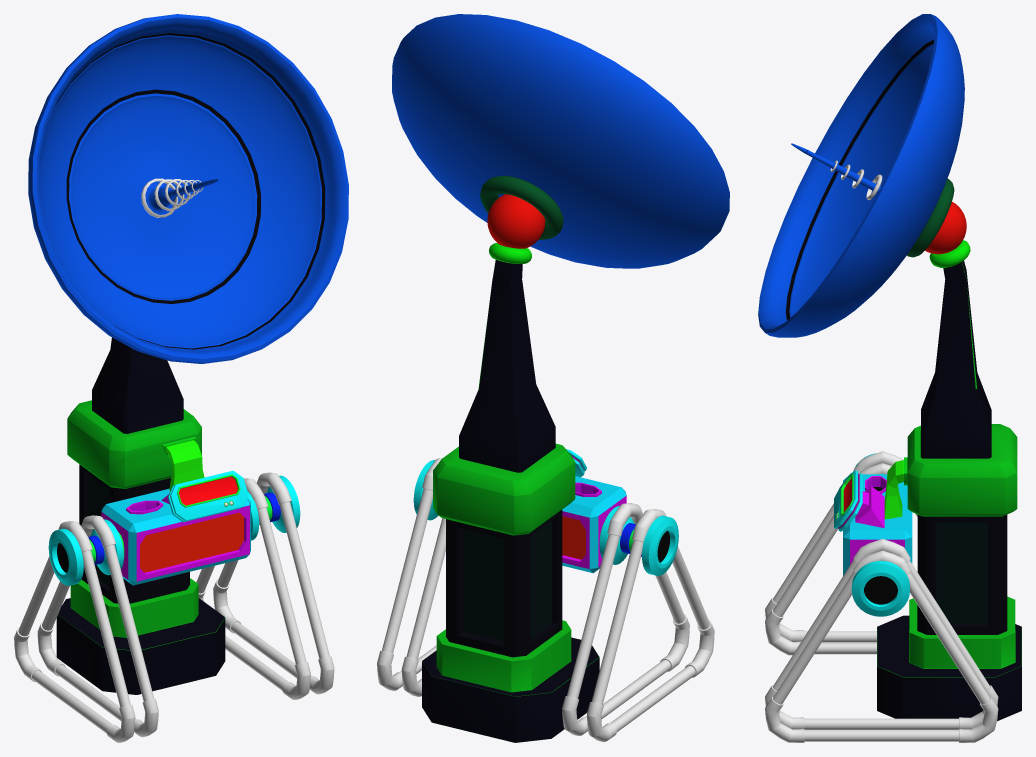
The model's file is radar3.fbx.
3 renders of one model, left to right at view 1: azimuth 30°, elevation 25°; view 2: azimuth 150°, elevation 25°; view 3: azimuth 270°, elevation 25°, orthographic. The views are drawn at different scales.
Visible parts, largest first — view 1: Sphere.004, Cube.001, Cube, Cylinder.003, Cylinder.008, Cylinder.006, Cylinder.001, Cylinder, tablo, Cylinder.007, Cylinder.002, Cylinder.005 (+2 smaller); view 2: Sphere.004, Cube.001, Cylinder.003, Cube, Cylinder.006, Cylinder.008, Sphere.003, Cylinder.001, Cylinder.007, Cylinder.005, Cylinder, Cylinder.002 (+1 smaller); view 3: Cube.001, Sphere.004, Cylinder.001, Cube, Cylinder, Cylinder.008, Cylinder.002, Cylinder.006, Cylinder.004, Cylinder.003, tablo, Sphere.003 (+2 smaller).
Boxes of the visible parts, left/top/right/bottom form: Sphere.004: left=28, top=14, right=348, bottom=363; Cube.001: left=56, top=337, right=225, bottom=694; Cube: left=101, top=440, right=250, bottom=585; Cylinder.003: left=18, top=550, right=130, bottom=733; Cylinder.008: left=48, top=475, right=300, bottom=585; Cylinder.006: left=42, top=529, right=154, bottom=720; Cylinder.001: left=217, top=486, right=329, bottom=678; Cylinder: left=196, top=507, right=306, bottom=690; tablo: left=167, top=470, right=248, bottom=522; Cylinder.007: left=37, top=515, right=158, bottom=737; Cylinder.002: left=213, top=472, right=334, bottom=694; Cylinder.005: left=14, top=521, right=135, bottom=742; Sphere.004: left=392, top=14, right=729, bottom=268; Cube.001: left=422, top=243, right=599, bottom=742; Cylinder.003: left=591, top=539, right=709, bottom=731; Cube: left=562, top=476, right=626, bottom=573; Cylinder.006: left=567, top=523, right=685, bottom=719; Cylinder.008: left=413, top=460, right=678, bottom=575; Sphere.003: left=487, top=194, right=545, bottom=248; Cylinder.001: left=382, top=488, right=436, bottom=673; Cylinder.007: left=562, top=503, right=689, bottom=735; Cylinder.005: left=587, top=509, right=714, bottom=742; Cylinder: left=406, top=518, right=445, bottom=659; Cylinder.002: left=377, top=458, right=442, bottom=690; Cube.001: left=877, top=240, right=1021, bottom=721; Sphere.004: left=758, top=14, right=964, bottom=337; Cylinder.001: left=773, top=571, right=990, bottom=741; Cube: left=843, top=460, right=912, bottom=575; Cylinder: left=773, top=559, right=990, bottom=729; Cylinder.008: left=851, top=453, right=909, bottom=616; Cylinder.002: left=765, top=550, right=998, bottom=742; Cylinder.006: left=773, top=513, right=917, bottom=654; Cylinder.004: left=765, top=538, right=998, bottom=729; Cylinder.003: left=773, top=503, right=876, bottom=642; tablo: left=834, top=470, right=862, bottom=531; Sphere.003: left=925, top=201, right=966, bottom=254.
Bounding box in the file's own units: 1676 × 3388 × 1227.
